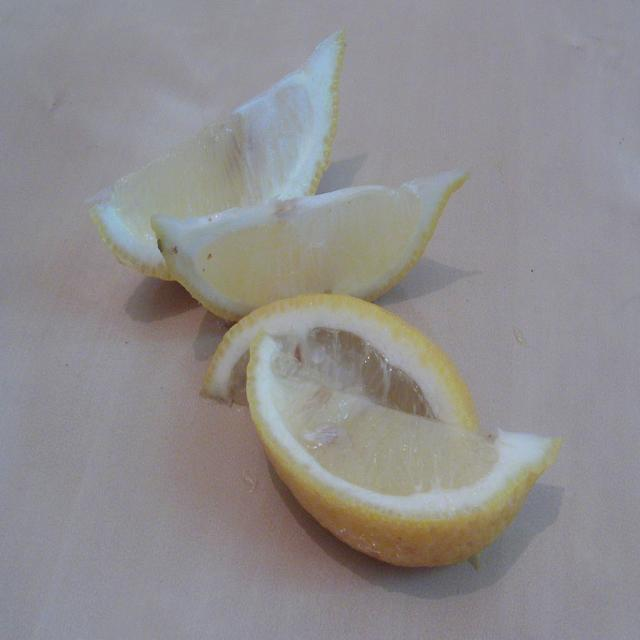Lemon: (250, 338, 563, 571), (86, 34, 340, 285), (153, 172, 472, 322), (201, 294, 473, 426)
